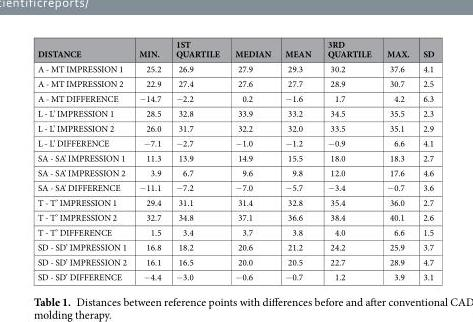table: (36, 37, 433, 282)
table column: (36, 37, 132, 282), (318, 37, 378, 282), (167, 37, 226, 282), (226, 37, 277, 282), (277, 37, 318, 282), (378, 37, 415, 282), (132, 37, 167, 282), (415, 37, 433, 282)
table column header: (36, 37, 433, 60)
table row: (36, 37, 433, 60), (36, 60, 433, 75), (36, 75, 433, 90), (36, 90, 433, 105), (36, 105, 433, 120), (36, 120, 433, 135), (36, 135, 433, 150), (36, 150, 433, 165), (36, 179, 433, 194), (36, 194, 433, 209), (36, 209, 433, 224), (36, 224, 433, 239), (36, 239, 433, 254), (36, 254, 433, 269), (36, 165, 433, 179), (36, 269, 433, 282)
